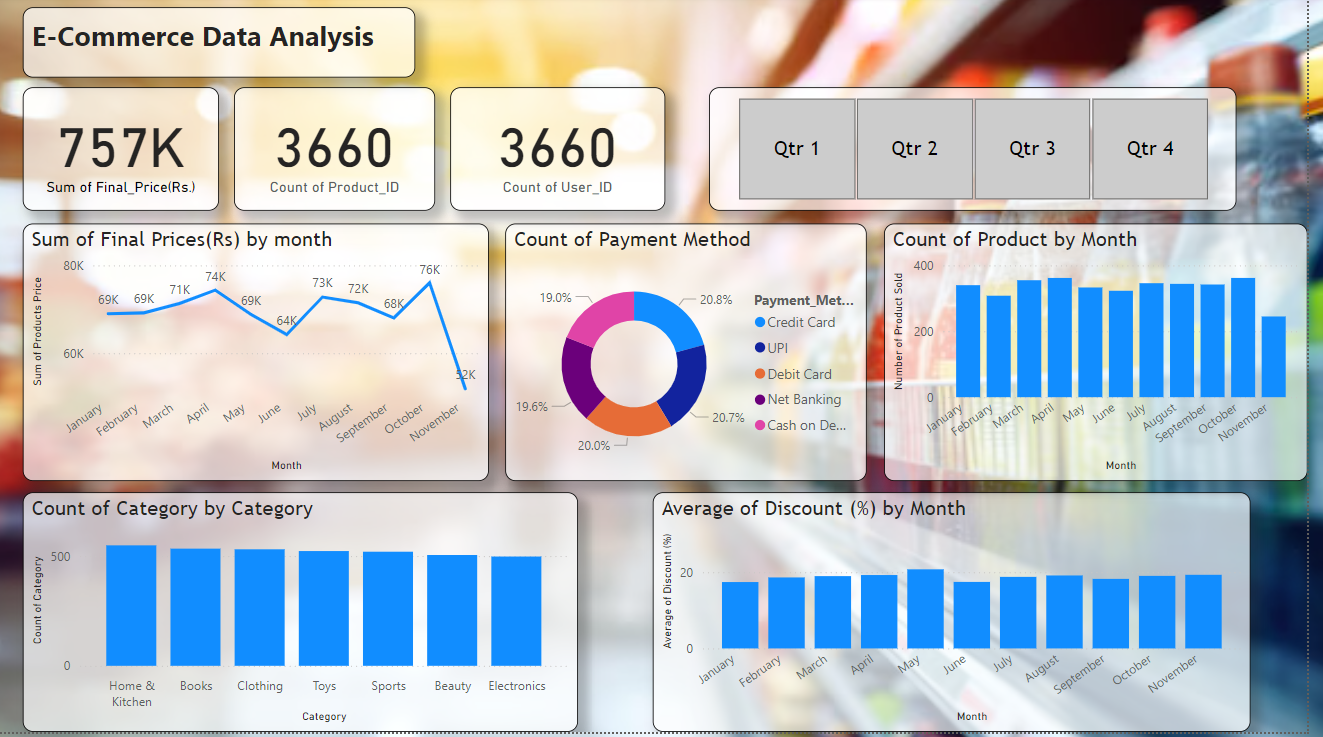

The page's visual inventory and layout, read from the dashboard file:
{"tool":"powerbi","page":{"name":"Page 1","canvas":[1280,720],"ordinal":0},"visuals":[{"type":"textbox","box":[23.2,11,384,68.5],"z":0},{"type":"lineChart","title":"Sum of Final Prices(Rs) by month","fields":{"Category":["ecommerce_dataset_updated.Purchase_Date.Variation.Date Hierarchy.Month"],"Y":["Sum(ecommerce_dataset_updated.Final_Price(Rs.))"]},"box":[23.2,222.6,456.1,251.9],"z":1000},{"type":"card","fields":{"Values":["Sum(ecommerce_dataset_updated.Final_Price(Rs.))"]},"box":[23.2,89.3,192,121.1],"z":2000},{"type":"donutChart","title":"Count of Payment Method","fields":{"Category":["ecommerce_dataset_updated.Payment_Method"],"Y":["CountNonNull(ecommerce_dataset_updated.Payment_Method)"]},"box":[495.2,222.6,353.4,251.9],"z":3000},{"type":"slicer","fields":{"Values":["ecommerce_dataset_updated.Quarter"]},"box":[694.6,89.3,516,121.1],"z":4000},{"type":"lineStackedColumnComboChart","fields":{"Y":["Avg(ecommerce_dataset_updated.Discount (%))"],"Category":["ecommerce_dataset_updated.Purchase_Date.Variation.Date Hierarchy.Month"]},"box":[639.5,485.5,584.5,234.8],"z":5000},{"type":"card","fields":{"Values":["CountNonNull(ecommerce_dataset_updated.Product_ID)"]},"box":[229.9,89.3,196.9,121.1],"z":6000},{"type":"lineStackedColumnComboChart","fields":{"Category":["ecommerce_dataset_updated.Category"],"Y":["CountNonNull(ecommerce_dataset_updated.Category)"]},"box":[23.2,485.5,542.9,234.8],"z":7000},{"type":"lineStackedColumnComboChart","title":"Count of Product by Month","fields":{"Y":["CountNonNull(ecommerce_dataset_updated.Product_ID)"],"Category":["ecommerce_dataset_updated.Purchase_Date.Variation.Date Hierarchy.Month"]},"box":[865.8,222.6,414.5,251.9],"z":8000},{"type":"card","fields":{"Values":["Count(ecommerce_dataset_updated.User_ID)"]},"box":[441.4,89.3,210.3,121.1],"z":9000}]}

Visuals, with their boxes in screenshot pixels (x1, y1, x2, y2), scaled from the page's 1280x720 canvas onto the 1323x737 screenshot:
textbox: 24, 11, 421, 81
"Sum of Final Prices(Rs) by month" lineChart: 24, 228, 495, 486
card - Sum(ecommerce_dataset_updated.Final_Price(Rs.)): 24, 91, 222, 215
"Count of Payment Method" donutChart: 512, 228, 877, 486
slicer - ecommerce_dataset_updated.Quarter: 718, 91, 1251, 215
lineStackedColumnComboChart - Avg(ecommerce_dataset_updated.Discount (%)) x ecommerce_dataset_updated.Purchase_Date.Variation.Date Hierarchy.Month: 661, 497, 1265, 736
card - CountNonNull(ecommerce_dataset_updated.Product_ID): 238, 91, 441, 215
lineStackedColumnComboChart - ecommerce_dataset_updated.Category x CountNonNull(ecommerce_dataset_updated.Category): 24, 497, 585, 736
"Count of Product by Month" lineStackedColumnComboChart: 895, 228, 1322, 486
card - Count(ecommerce_dataset_updated.User_ID): 456, 91, 674, 215
